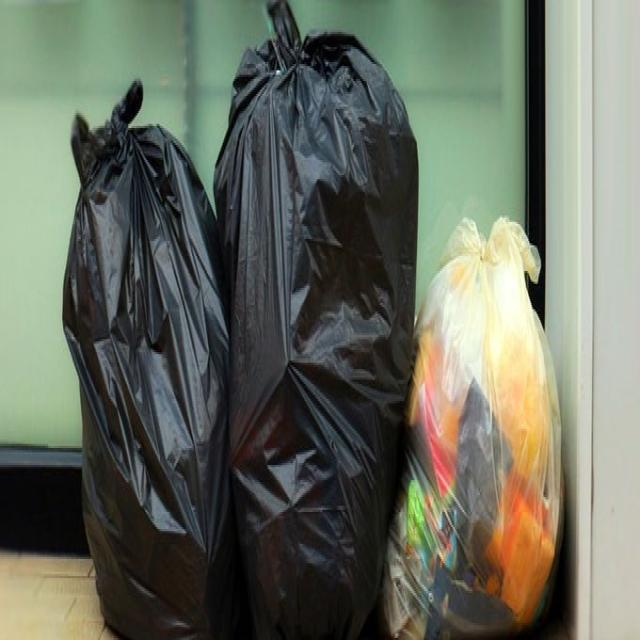Vinyl: (210, 0, 422, 640), (63, 77, 233, 640)
